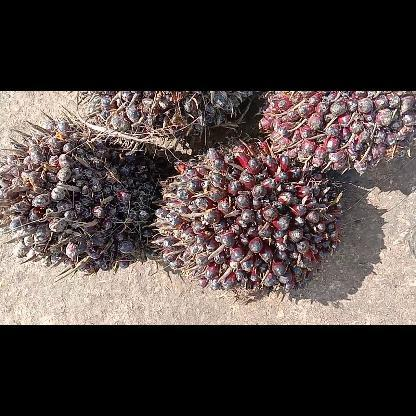Kurang masak: (153, 143, 345, 297), (0, 115, 162, 273), (258, 91, 414, 169), (79, 91, 255, 147)
